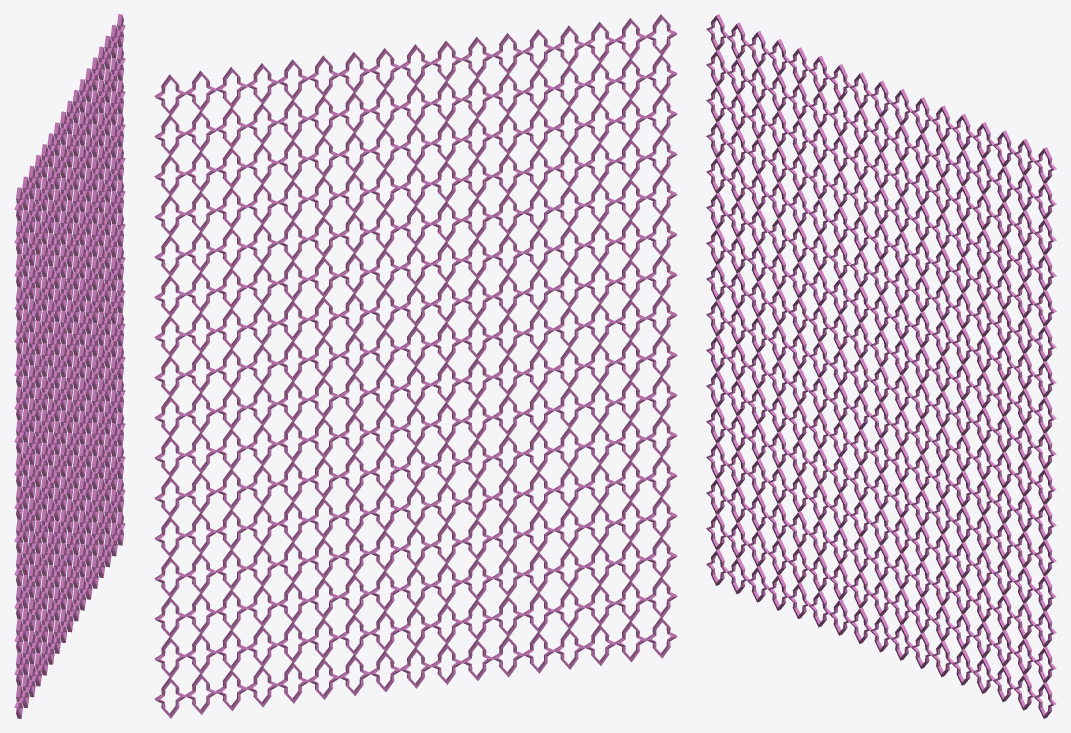
The model's file is gateangle.fbx.
3 renders of one model, left to right at view 1: azimuth 30°, elevation 25°; view 2: azimuth 150°, elevation 25°; view 3: azimuth 270°, elevation 25°, orthographic. The views are drawn at different scales.
Visible parts, largest first — view 1: gateangle; view 2: gateangle; view 3: gateangle.
Boxes of the visible parts, x1,y1,x2,y2 form: gateangle: [14, 14, 125, 718]; gateangle: [154, 14, 677, 718]; gateangle: [706, 14, 1056, 718].
Size of the model in its own units: 3380 by 6309 by 3516.
